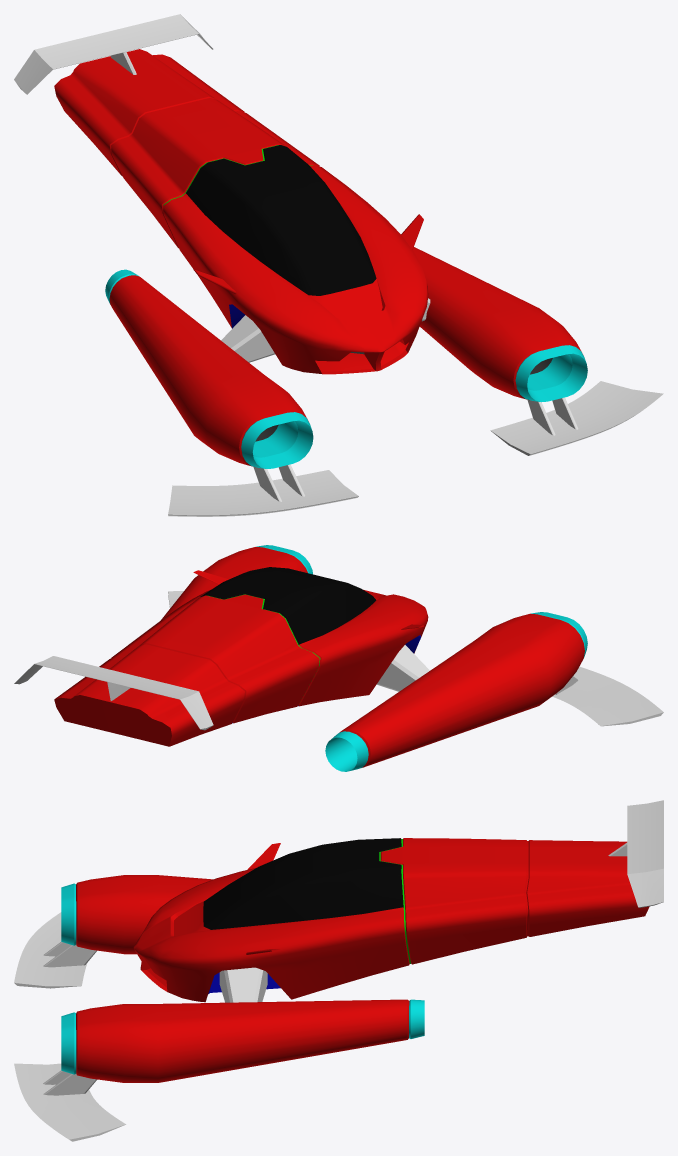
File: S_LCar.fbx
The picture shows the model from 3 angles, top to bottom: view 1: azimuth 30°, elevation 25°; view 2: azimuth 150°, elevation 25°; view 3: azimuth 270°, elevation 25°; orthographic projection. The views are drawn at different scales.
Visible parts, largest first — view 1: S_Chassi, S_EngineR, S_EngineL, S_Suspension; view 2: S_Chassi, S_EngineR, S_EngineL, S_Suspension; view 3: S_Chassi, S_EngineL, S_EngineR, S_Suspension.
Part boxes in pixels (bbox=[...]): S_Chassi: bbox=[14, 14, 428, 374]; S_EngineR: bbox=[105, 269, 358, 516]; S_EngineL: bbox=[413, 247, 663, 455]; S_Suspension: bbox=[221, 298, 430, 362]; S_Chassi: bbox=[14, 567, 428, 746]; S_EngineR: bbox=[325, 612, 663, 771]; S_EngineL: bbox=[161, 545, 312, 619]; S_Suspension: bbox=[376, 645, 429, 691]; S_Chassi: bbox=[133, 800, 663, 1002]; S_EngineL: bbox=[14, 999, 424, 1141]; S_EngineR: bbox=[14, 875, 212, 988]; S_Suspension: bbox=[219, 967, 267, 1002].
Size of the model in its own units: 644 by 249 by 760.
